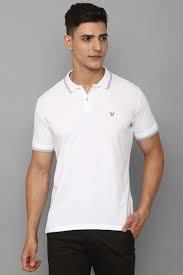tshirt: (28, 67, 161, 236)
